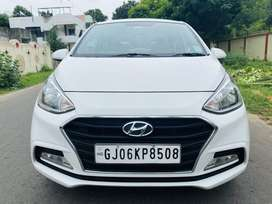GJ06KP8508: (94, 143, 180, 163)
